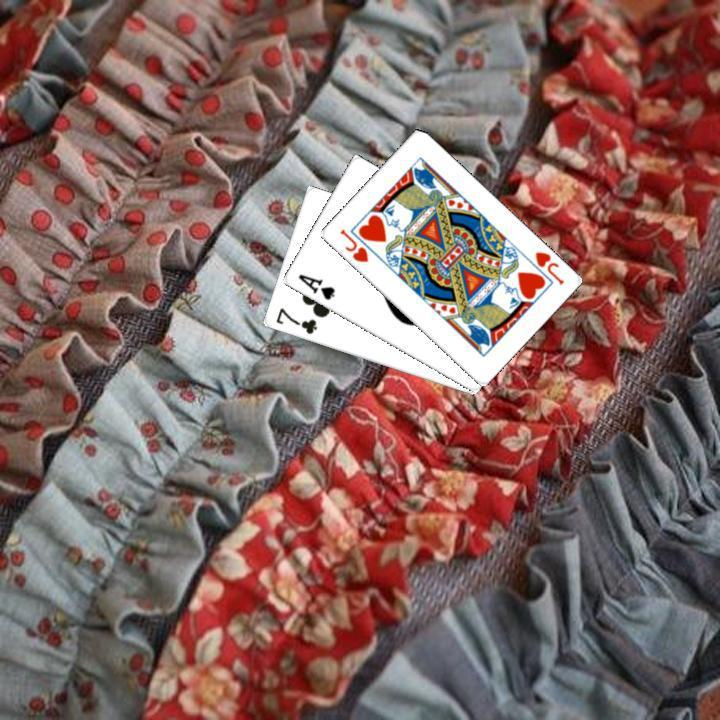7: (271, 304, 319, 336)
A: (293, 270, 336, 302)
J: (530, 247, 566, 287), (335, 224, 370, 264)
